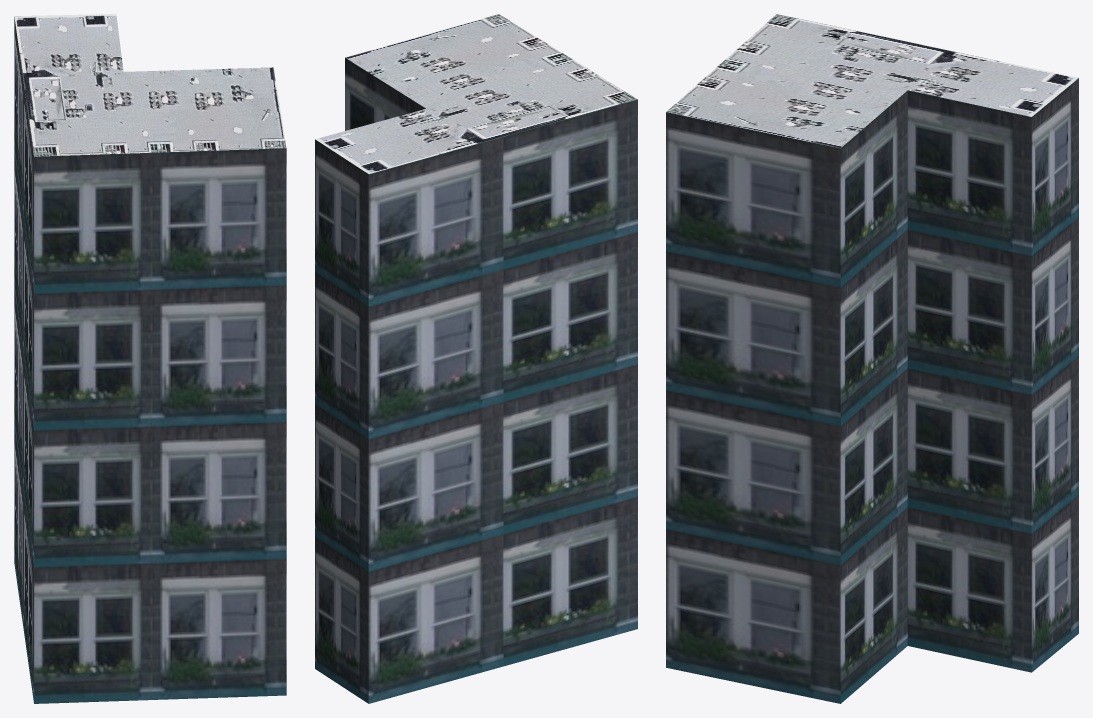
Rendered from ResTex__3309.fbx.
3 views of the same model, side by side, from view 1: azimuth 30°, elevation 25°; view 2: azimuth 150°, elevation 25°; view 3: azimuth 270°, elevation 25° (orthographic). The views are drawn at different scales.
Visible parts, largest first — view 1: CityEngineMaterial_11_m, CityEngineMaterial_8_m; view 2: CityEngineMaterial_11_m, CityEngineMaterial_8_m; view 3: CityEngineMaterial_11_m, CityEngineMaterial_8_m.
Boxes of the visible parts, left/top/right/bottom form: CityEngineMaterial_11_m: left=14, top=17, right=286, bottom=703; CityEngineMaterial_8_m: left=14, top=14, right=286, bottom=156; CityEngineMaterial_11_m: left=315, top=58, right=637, bottom=703; CityEngineMaterial_8_m: left=315, top=14, right=637, bottom=173; CityEngineMaterial_11_m: left=666, top=78, right=1078, bottom=703; CityEngineMaterial_8_m: left=666, top=14, right=1078, bottom=148.
Bounding box in the file's own units: 6.22 × 12 × 8.08.
Materials: 2 (2 with a texture image).
